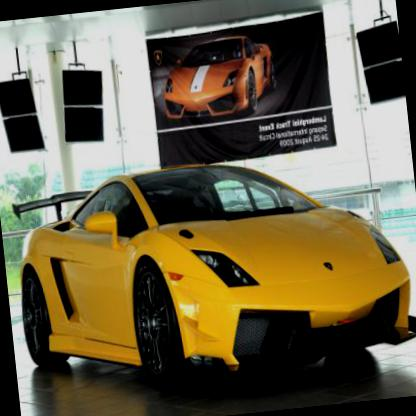car: (6, 137, 415, 402), (160, 32, 283, 124)
